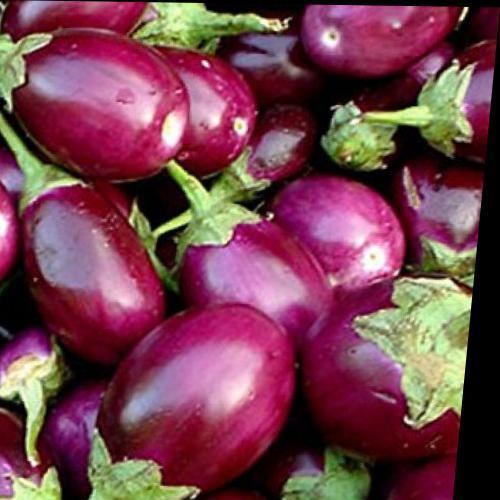eggplant: (0, 6, 489, 498), (93, 298, 302, 480), (145, 163, 357, 333), (0, 22, 212, 180), (304, 277, 479, 463), (6, 150, 150, 368)
